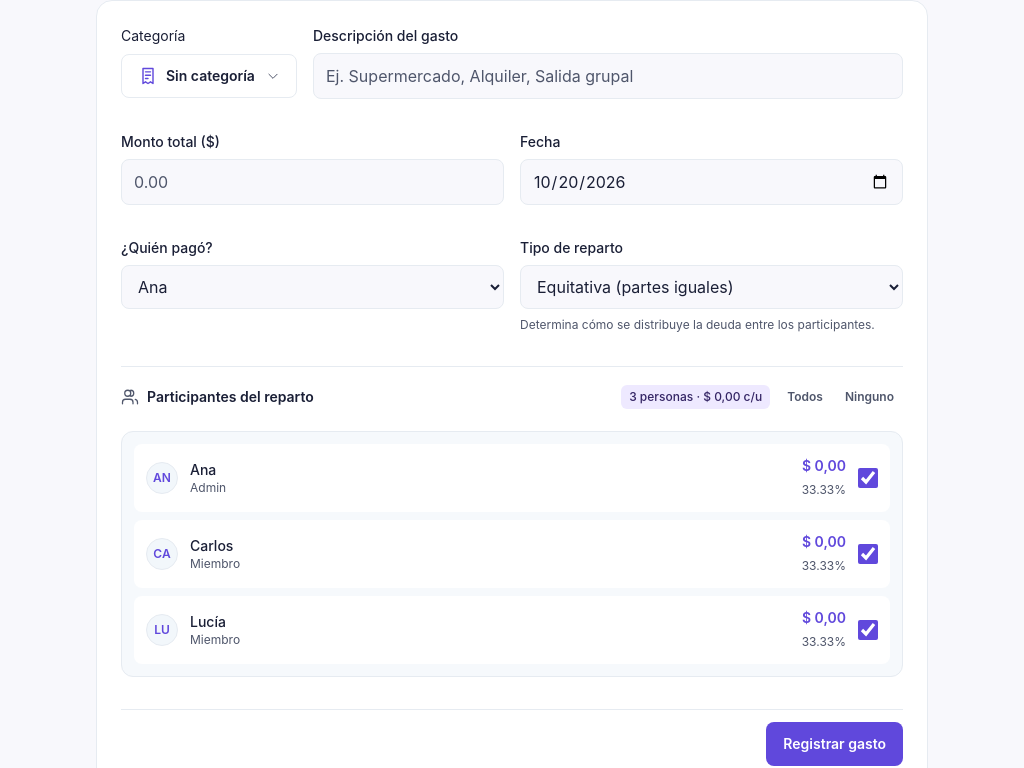
Test case: ExpenseForm & ParticipantsSelector › UX Crítica: si la petición falla (ej. error 400), conserva TODOS los datos para que el usuario pueda corregirlos
Type "Supermercado quincenal" into the field labelled "Descripción del gasto" at (608, 76), box [313, 53, 903, 99]
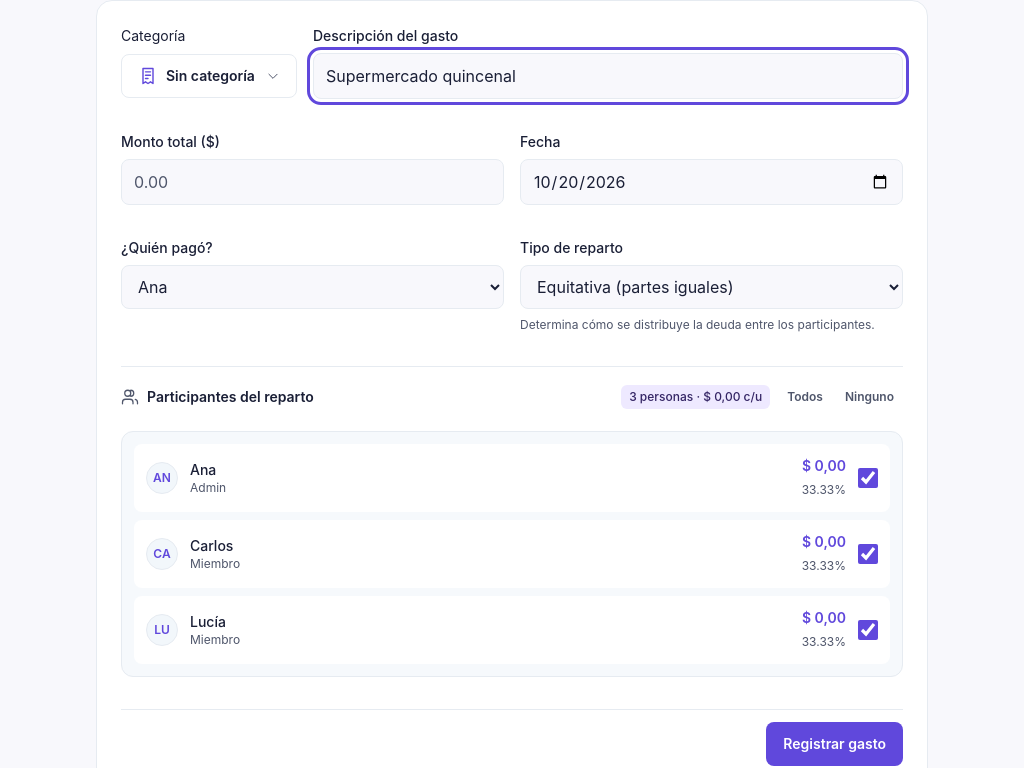
Type "4500.50" into the number field labelled "Monto total ($)" at (312, 182), box [121, 159, 504, 205]
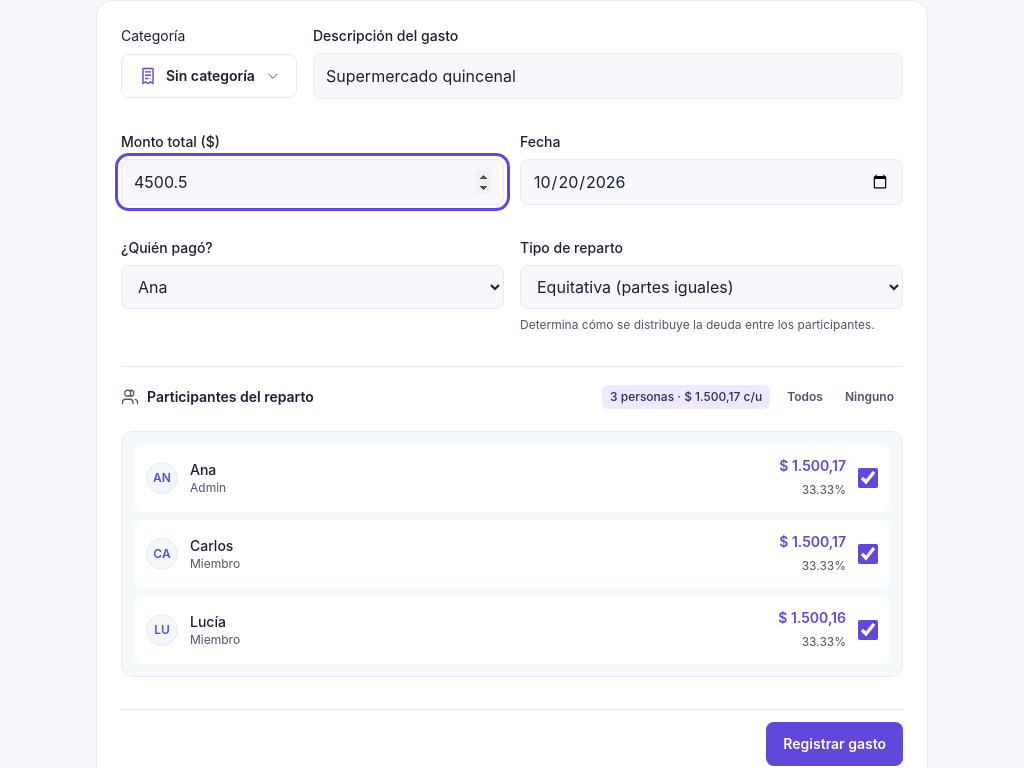
Select "Carlos" in the dropdown labelled "¿Quién pagó?" at (312, 287), box [121, 265, 504, 309]
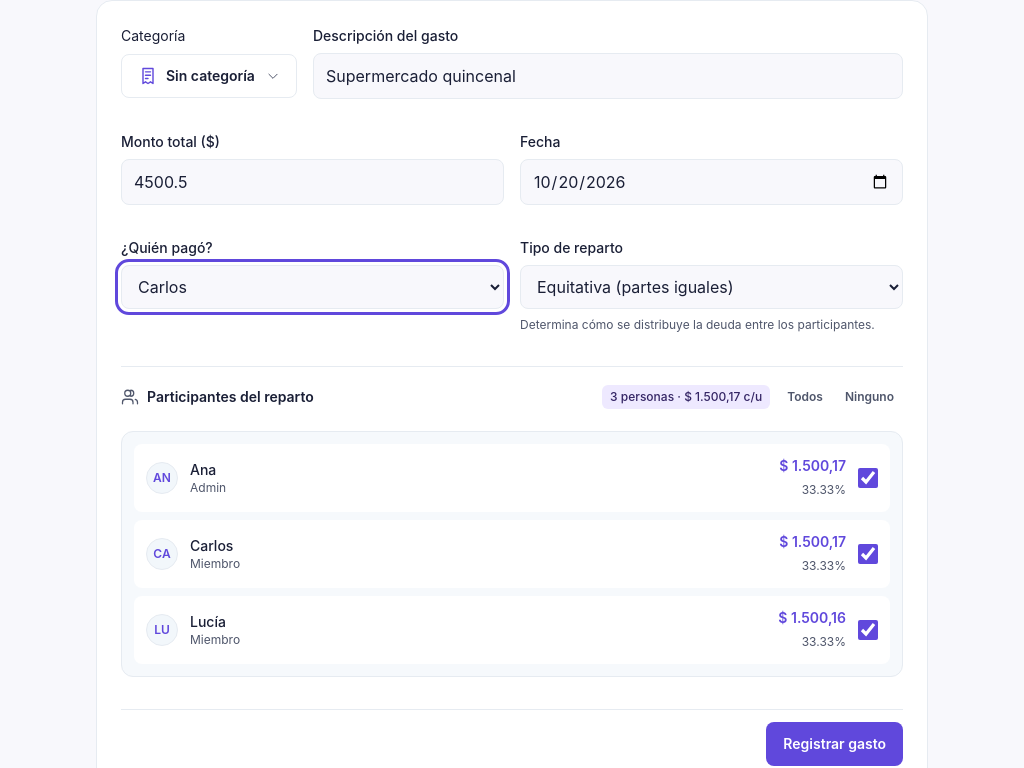
# Click en registrar gasto
Click the button "Registrar gasto" at (835, 744), box [766, 722, 903, 766]
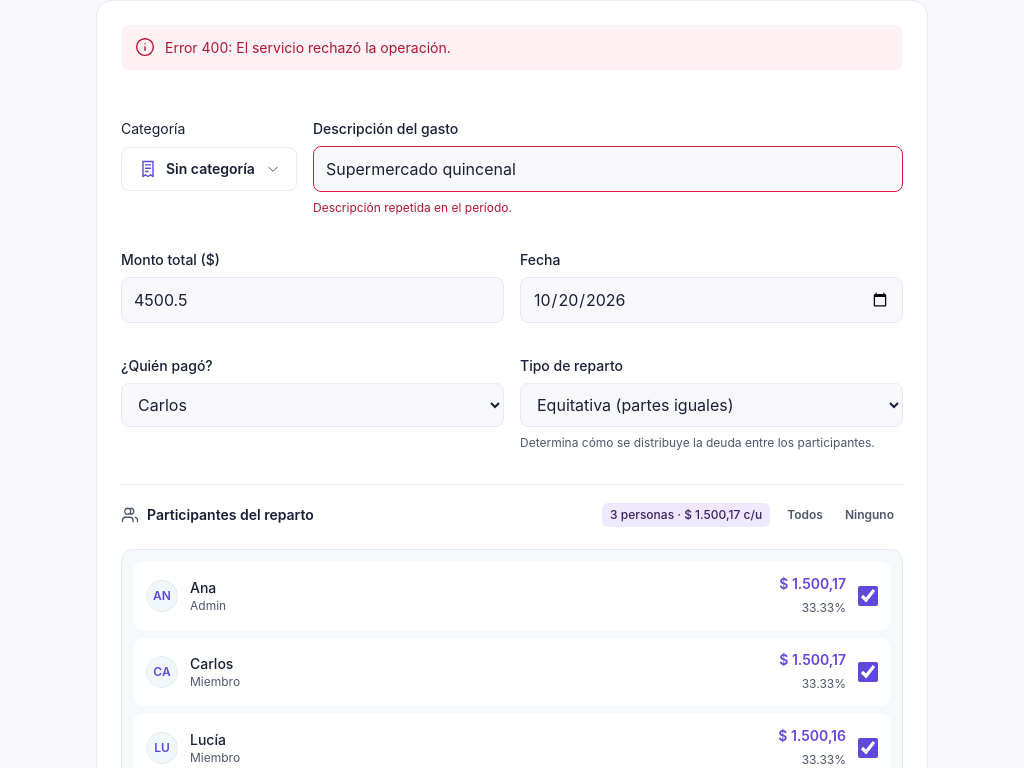
Expected: the number field labelled "Monto total ($)" holds "4500.5", [121, 277, 504, 323]
Expected: the text "Descripción repetida en el período." is shown, [313, 200, 512, 215]
